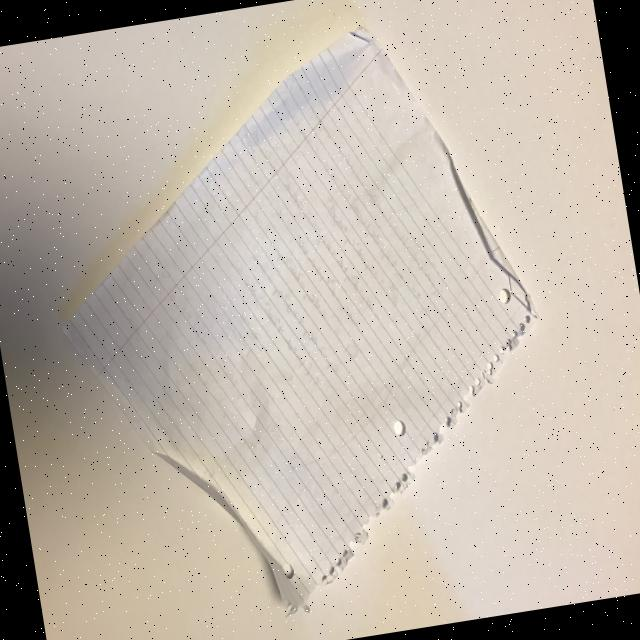paper: (22, 5, 580, 640)
